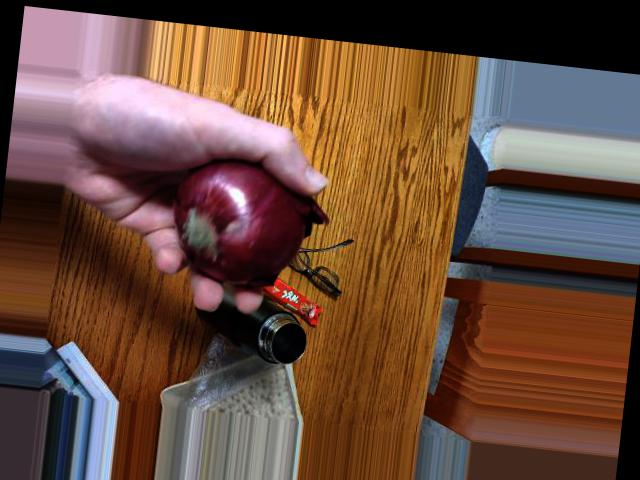onion: (174, 157, 307, 287)
